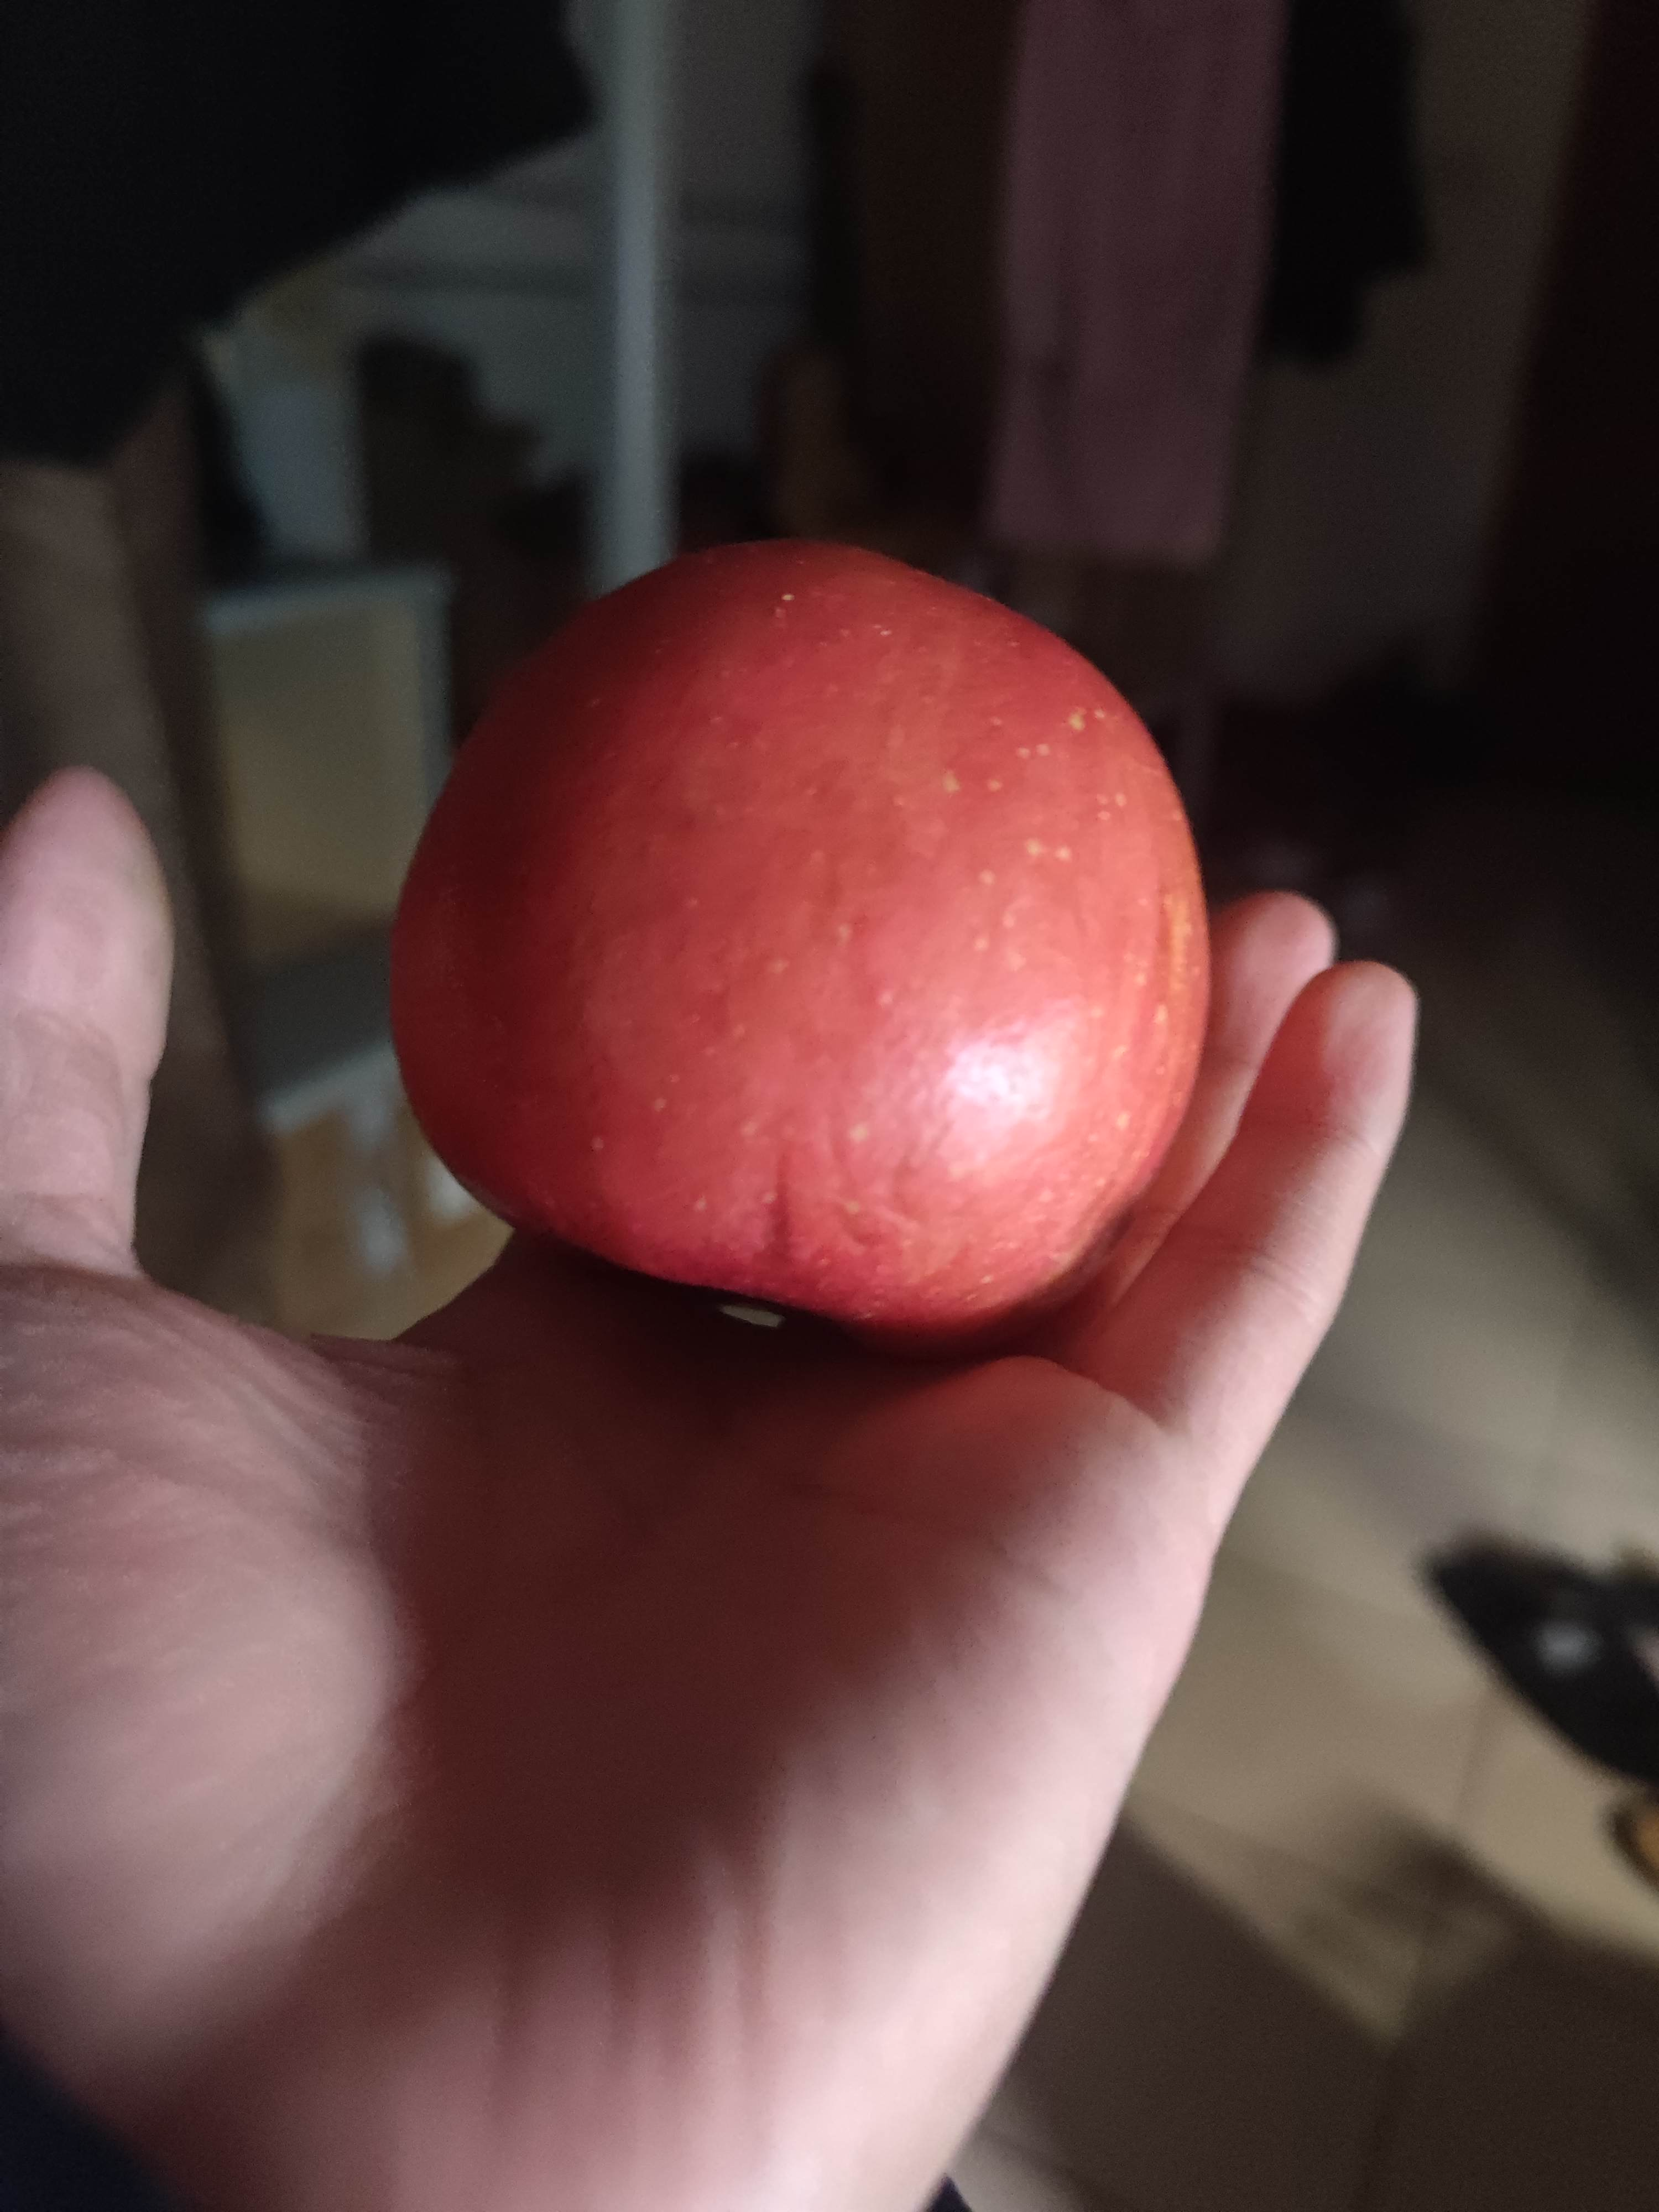apple: (380, 536, 1215, 1345)
